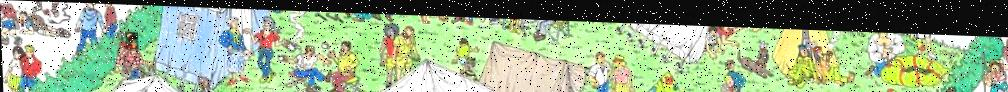waldo: (125, 31, 138, 48)
